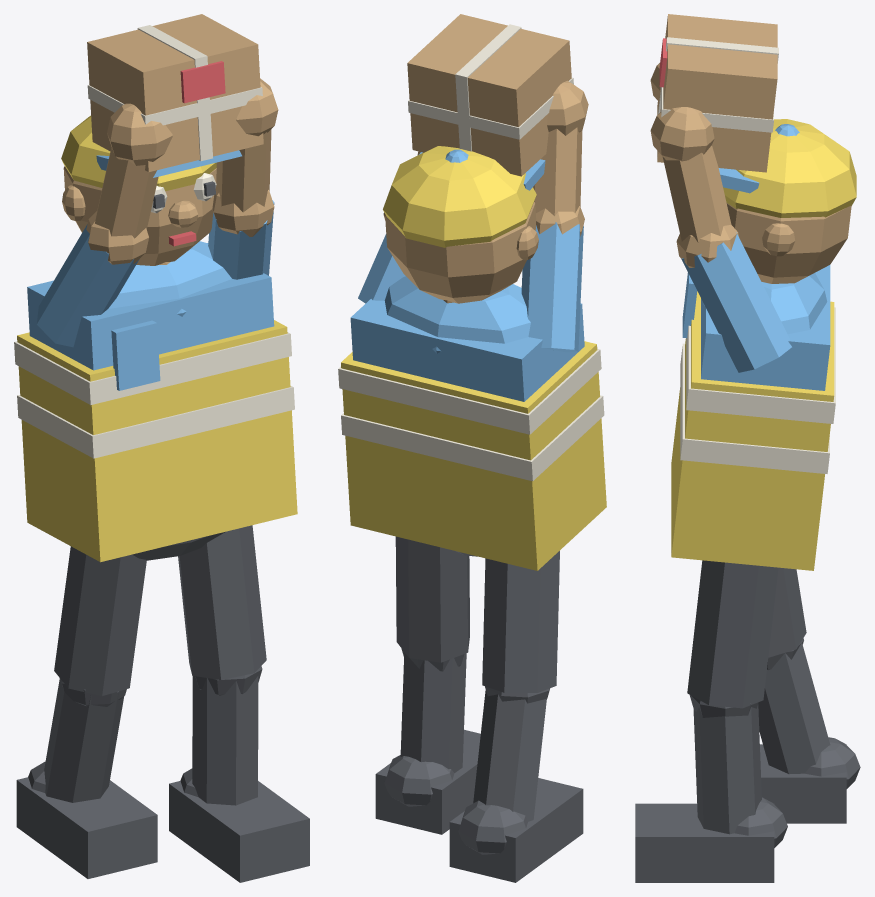
Rendered from lawn-mowing-simulator-kit-delivery-driver-parcel-raise-6ca4b91d__27356.glb.
3 views of the same model, side by side, from view 1: azimuth 30°, elevation 25°; view 2: azimuth 150°, elevation 25°; view 3: azimuth 270°, elevation 25° (orthographic). The views are drawn at different scales.
Visible parts, largest first — view 1: delivery-driver-parcel-raised; view 2: delivery-driver-parcel-raised; view 3: delivery-driver-parcel-raised.
Part boxes in pixels (left/top/right/bottom): delivery-driver-parcel-raised: left=14, top=14, right=309, bottom=882; delivery-driver-parcel-raised: left=338, top=14, right=606, bottom=882; delivery-driver-parcel-raised: left=635, top=14, right=860, bottom=882.
Bounding box in the file's own units: 0.5493 × 1.91 × 0.4867.
